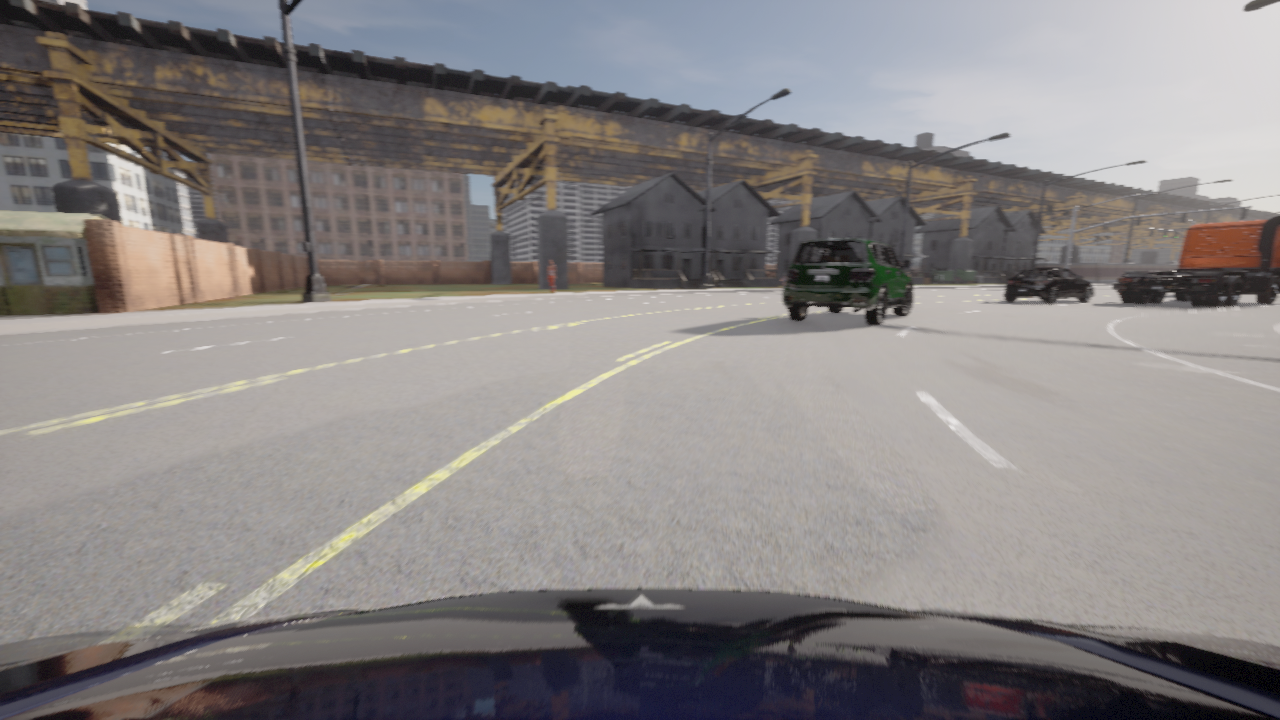cyclist: (0, 588, 1279, 719), (1113, 215, 1279, 307), (783, 237, 912, 325), (1004, 268, 1093, 303), (1170, 269, 1176, 274)
pedestrian: (546, 260, 555, 293), (782, 274, 785, 287)
